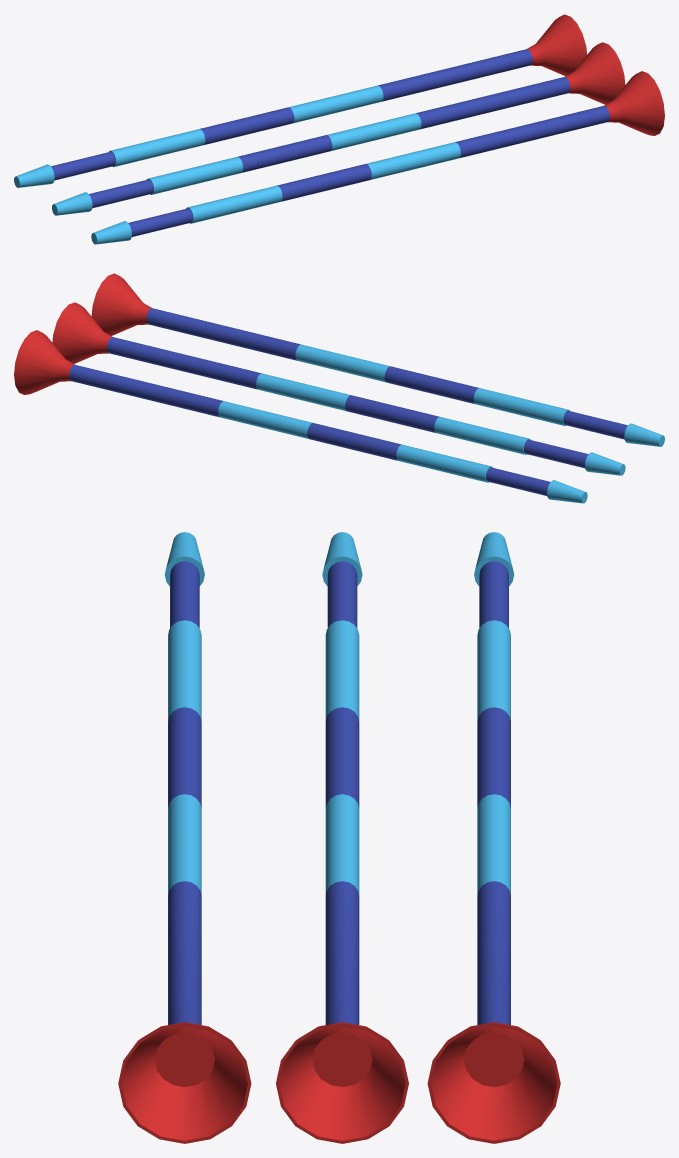
File: Arrows.fbx
The picture shows the model from 3 angles, top to bottom: view 1: azimuth 30°, elevation 25°; view 2: azimuth 150°, elevation 25°; view 3: azimuth 270°, elevation 25°; orthographic projection. The views are drawn at different scales.
Visible parts, largest first — view 1: Arrows; view 2: Arrows; view 3: Arrows.
Boxes of the visible parts, box(x1,y1,x2,y2) form: Arrows: box(14, 14, 664, 244); Arrows: box(14, 273, 664, 503); Arrows: box(118, 532, 560, 1143).
Size of the model in its own units: 42.64 by 4.44 by 14.75.
1 material, 1 textured.
